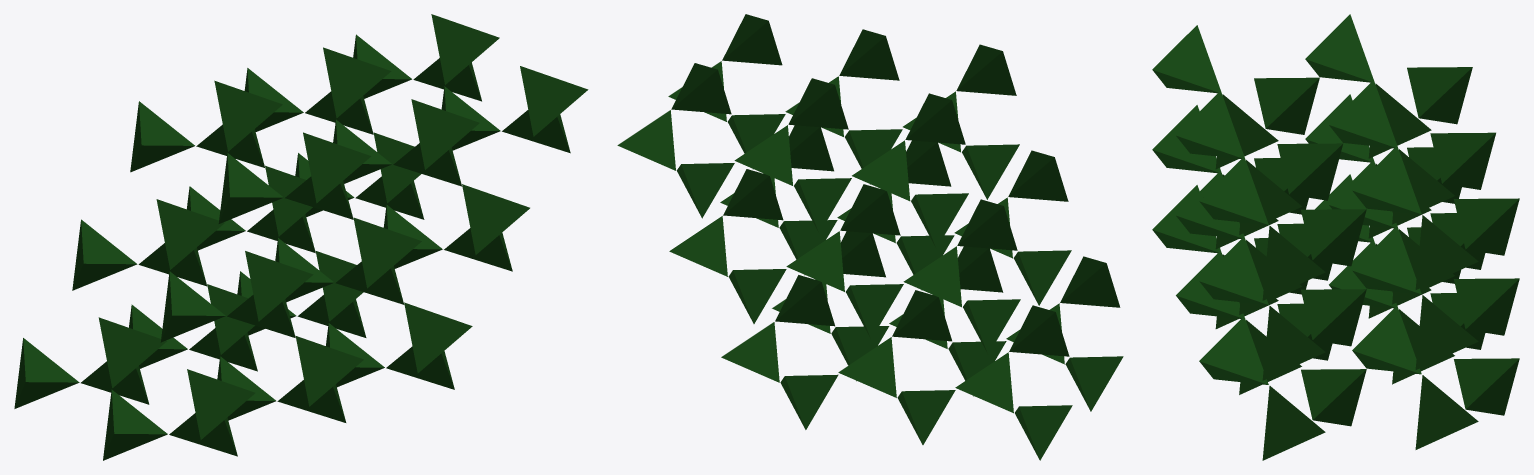
The model's file is Quartzo.obj.
The picture shows the model from 3 angles, left to right: view 1: azimuth 30°, elevation 25°; view 2: azimuth 150°, elevation 25°; view 3: azimuth 270°, elevation 25°; orthographic projection. The views are drawn at different scales.
Parts seen in each view (by area): view 1: Quartzo_Solid.667; view 2: Quartzo_Solid.667; view 3: Quartzo_Solid.667.
Boxes of the visible parts, x1=… form: Quartzo_Solid.667: x1=14, y1=14, x2=588, y2=460; Quartzo_Solid.667: x1=617, y1=14, x2=1123, y2=460; Quartzo_Solid.667: x1=1152, y1=14, x2=1519, y2=460.
Bounding box in the file's own units: 1.27 × 0.8418 × 0.7835.
